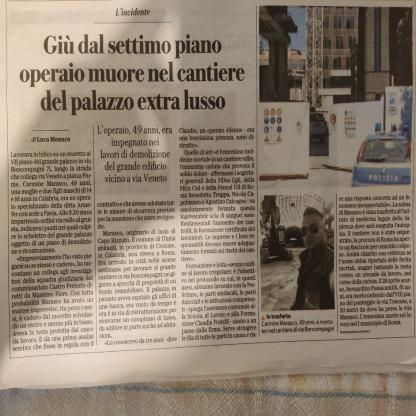immagine: (257, 6, 413, 188), (258, 193, 337, 310)
testo_col: (6, 148, 96, 357), (176, 123, 258, 346), (95, 197, 178, 350), (336, 190, 414, 330)
titolo: (16, 28, 250, 122)
